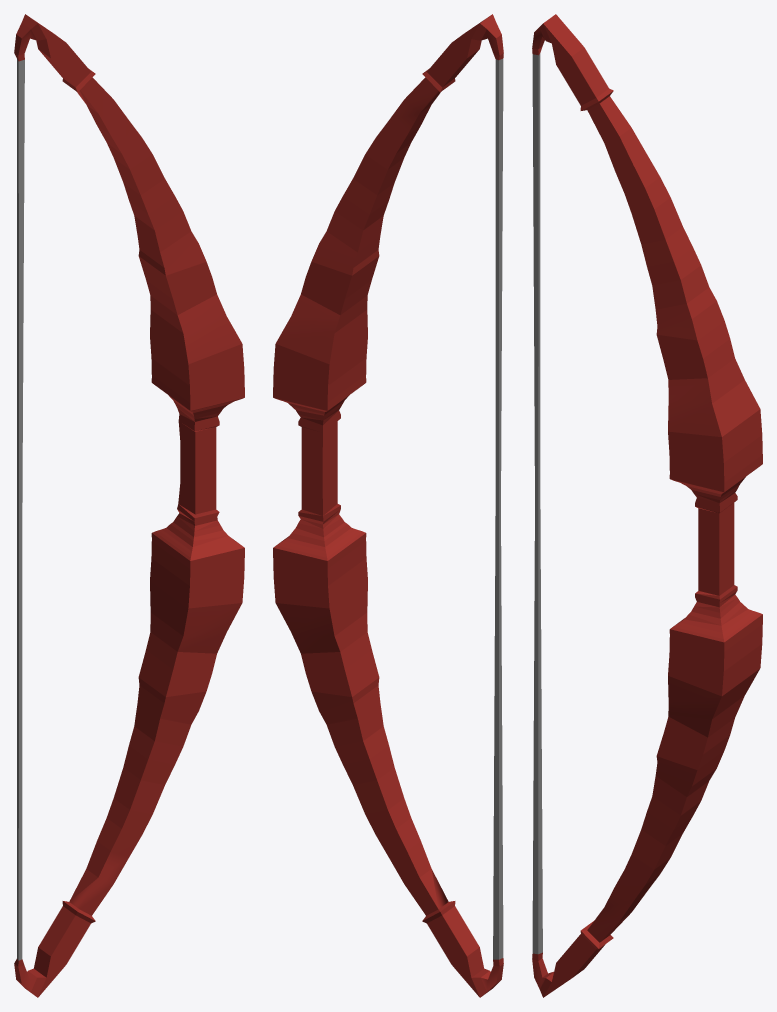
File: Bow.fbx
3 renders of one model, left to right at view 1: azimuth 30°, elevation 25°; view 2: azimuth 150°, elevation 25°; view 3: azimuth 330°, elevation 25°, orthographic.
Visible parts, largest first — view 1: Plane_2; view 2: Plane_2; view 3: Plane_2.
Boxes of the visible parts, left/top/right/bottom form: Plane_2: left=14, top=14, right=244, bottom=997; Plane_2: left=273, top=14, right=503, bottom=997; Plane_2: left=532, top=14, right=762, bottom=997.
Size of the model in its own units: 101 by 451 by 32.29.
